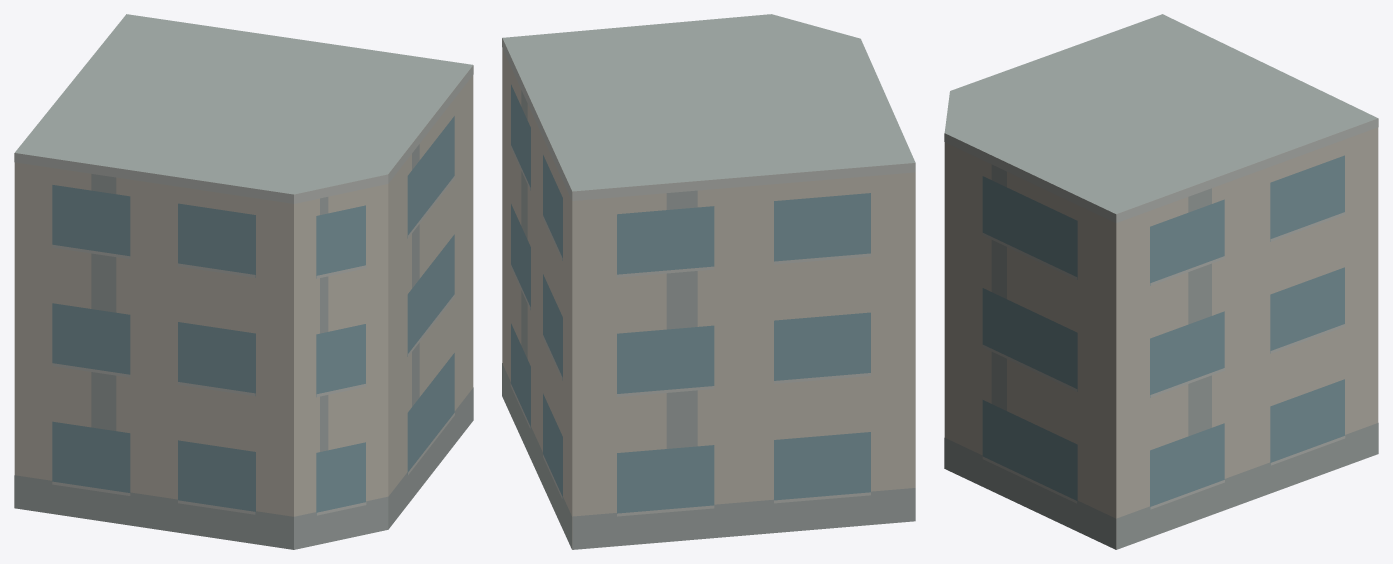
File: residential-76b38afe-2ae5-4a6d-8763-84da3236a192.glb
3 views of the same model, side by side, from view 1: azimuth 30°, elevation 25°; view 2: azimuth 150°, elevation 25°; view 3: azimuth 270°, elevation 25° (orthographic). The views are drawn at different scales.
Visible parts, largest first — view 1: residential-76b38afe-2ae5-4a6d-8763-84da3236a192.tmp; view 2: residential-76b38afe-2ae5-4a6d-8763-84da3236a192.tmp; view 3: residential-76b38afe-2ae5-4a6d-8763-84da3236a192.tmp.
Boxes of the visible parts, x1,y1,x2,y2 form: residential-76b38afe-2ae5-4a6d-8763-84da3236a192.tmp: (14,14,473,549); residential-76b38afe-2ae5-4a6d-8763-84da3236a192.tmp: (502,14,915,549); residential-76b38afe-2ae5-4a6d-8763-84da3236a192.tmp: (944,14,1378,549).
Size of the model in its own units: 11.72 by 9.15 by 10.73.
